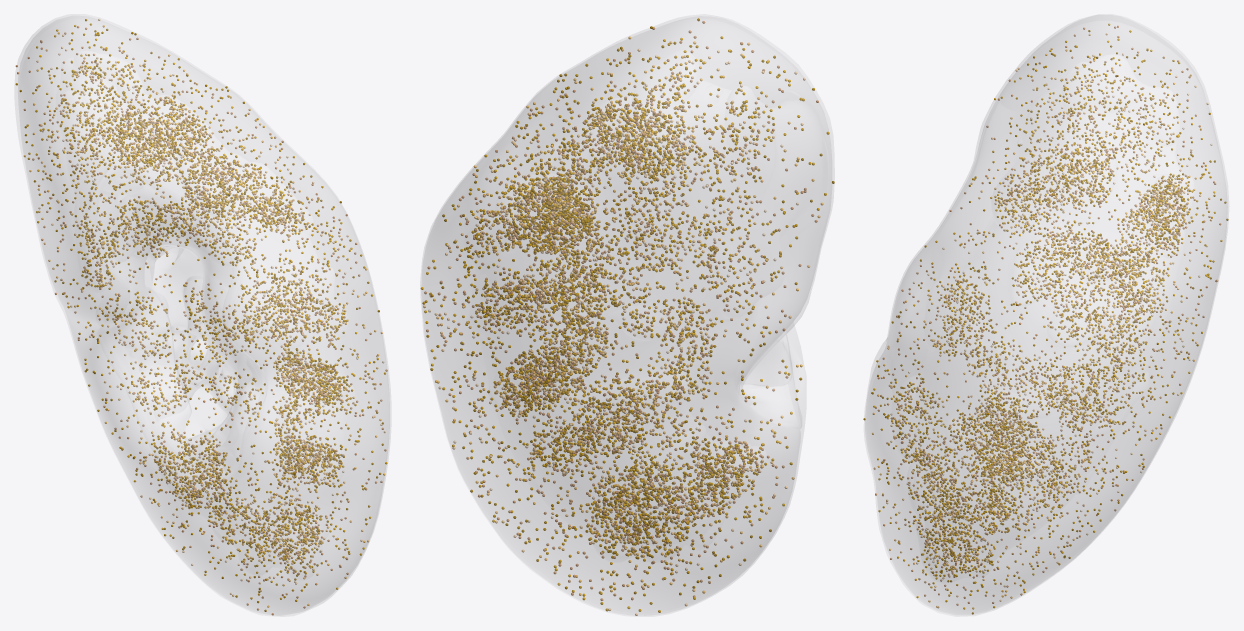
File: 3d-vh-f-kidney-l-UBERON_0004538-all-as-azimuth-sphere-hra-pop.glb
3 renders of one model, left to right at view 1: azimuth 30°, elevation 25°; view 2: azimuth 150°, elevation 25°; view 3: azimuth 270°, elevation 25°, orthographic. The views are drawn at different scales.
Visible parts, largest first — view 1: VH_F_kidney_capsule_L, VH_F_outer_cortex_of_kidney_L, VH_F_hilum_of_kidney_L, VH_F_renal_column_L, VH_F_renal_pyramid_L_g; view 2: VH_F_kidney_capsule_L, VH_F_outer_cortex_of_kidney_L, VH_F_hilum_of_kidney_L; view 3: VH_F_kidney_capsule_L, VH_F_outer_cortex_of_kidney_L.
Part boxes in pixels (x1,y1,x2,y2): VH_F_kidney_capsule_L: (15, 14, 390, 616); VH_F_outer_cortex_of_kidney_L: (19, 19, 389, 615); VH_F_hilum_of_kidney_L: (94, 169, 266, 490); VH_F_renal_column_L: (147, 246, 229, 413); VH_F_renal_pyramid_L_g: (158, 276, 232, 412); VH_F_kidney_capsule_L: (420, 14, 834, 616); VH_F_outer_cortex_of_kidney_L: (422, 19, 831, 615); VH_F_hilum_of_kidney_L: (738, 335, 801, 428); VH_F_kidney_capsule_L: (864, 14, 1228, 616); VH_F_outer_cortex_of_kidney_L: (865, 21, 1226, 614).
Size of the model in its own units: 0.0731 by 0.1249 by 0.0776.
